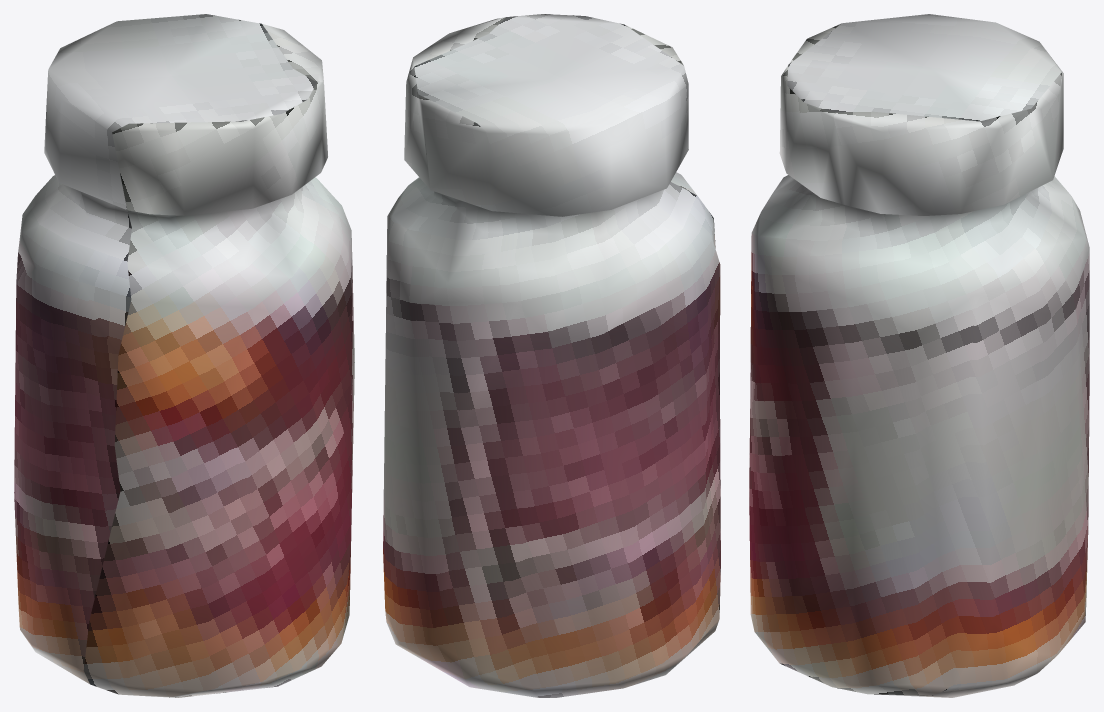
Rendered from Womens_Multi_13-low.glb.
3 renders of one model, left to right at view 1: azimuth 30°, elevation 25°; view 2: azimuth 150°, elevation 25°; view 3: azimuth 270°, elevation 25°, orthographic.
Parts seen in each view (by area): view 1: Womens_Multi_13; view 2: Womens_Multi_13; view 3: Womens_Multi_13.
Part boxes in pixels (bbox=[...]): Womens_Multi_13: bbox=[14, 14, 354, 697]; Womens_Multi_13: bbox=[383, 14, 720, 697]; Womens_Multi_13: bbox=[749, 14, 1089, 697].
Bounding box in the file's own units: 0.0616 × 0.1129 × 0.0613.
1 material, 1 textured.
